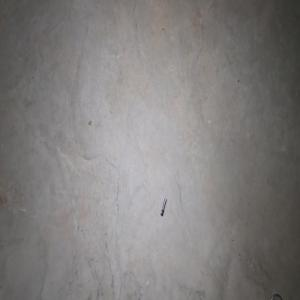Battery: (160, 197, 167, 216)
